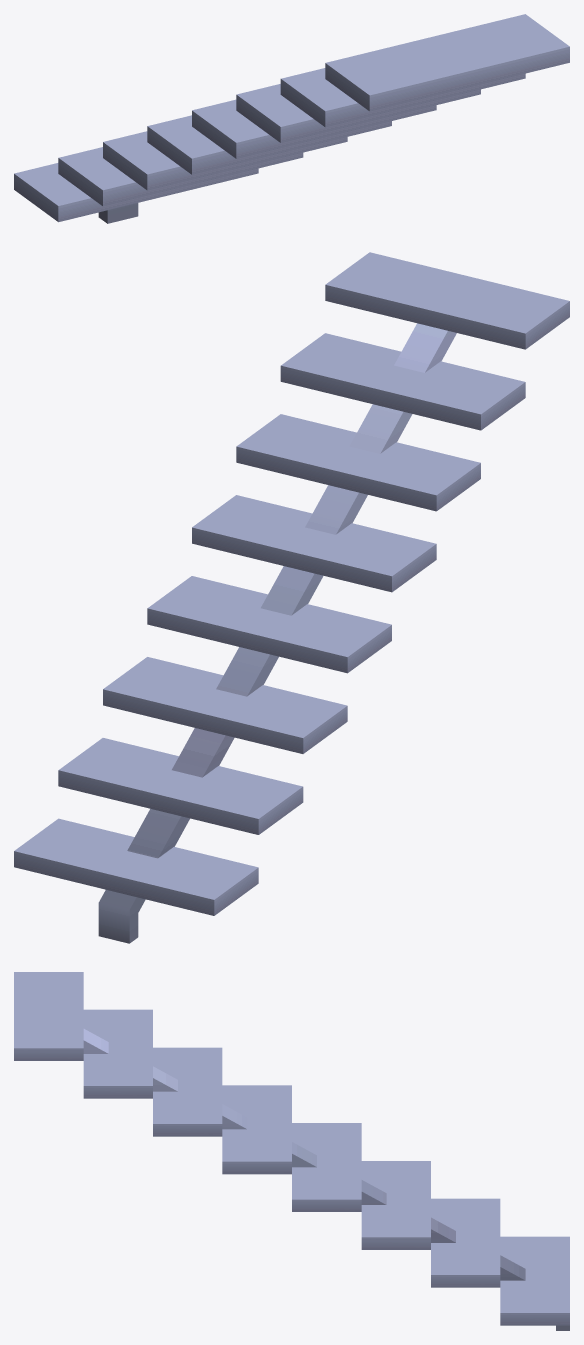
File: stairs-center.glb
3 views of the same model, one above another, from view 1: azimuth 30°, elevation 25°; view 2: azimuth 150°, elevation 25°; view 3: azimuth 270°, elevation 25° (orthographic). The views are drawn at different scales.
Visible parts, largest first — view 1: stairs-center; view 2: stairs-center; view 3: stairs-center.
Boxes of the visible parts, x1,y1,x2,y2 form: stairs-center: (14, 14, 569, 223); stairs-center: (14, 252, 569, 943); stairs-center: (14, 972, 569, 1330).
Bounding box in the file's own units: 1.3 × 2.5 × 4.
Materials: 1 (1 with a texture image).
